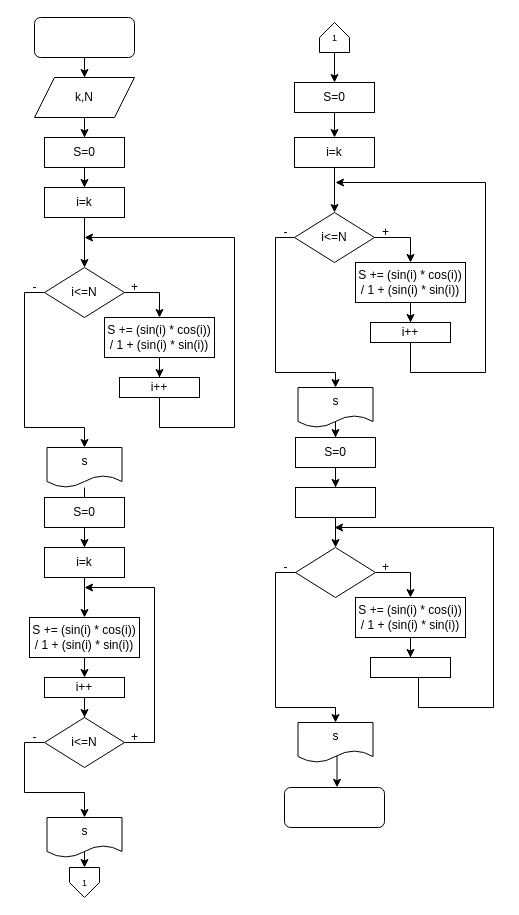
Image size: 519x915. Some labels were removed from this diagram. Each missing label, with the box of its shape:
i--: (370, 656, 450, 678)
i=N: (294, 486, 376, 518)
i>=k: (294, 546, 376, 598)
кінець: (284, 786, 384, 828)
початок: (34, 16, 134, 58)
